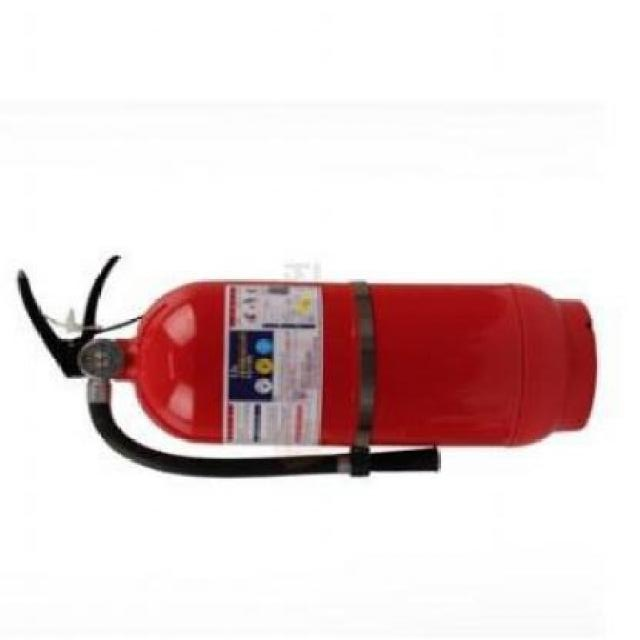fire extinguisher: (15, 255, 598, 479)
